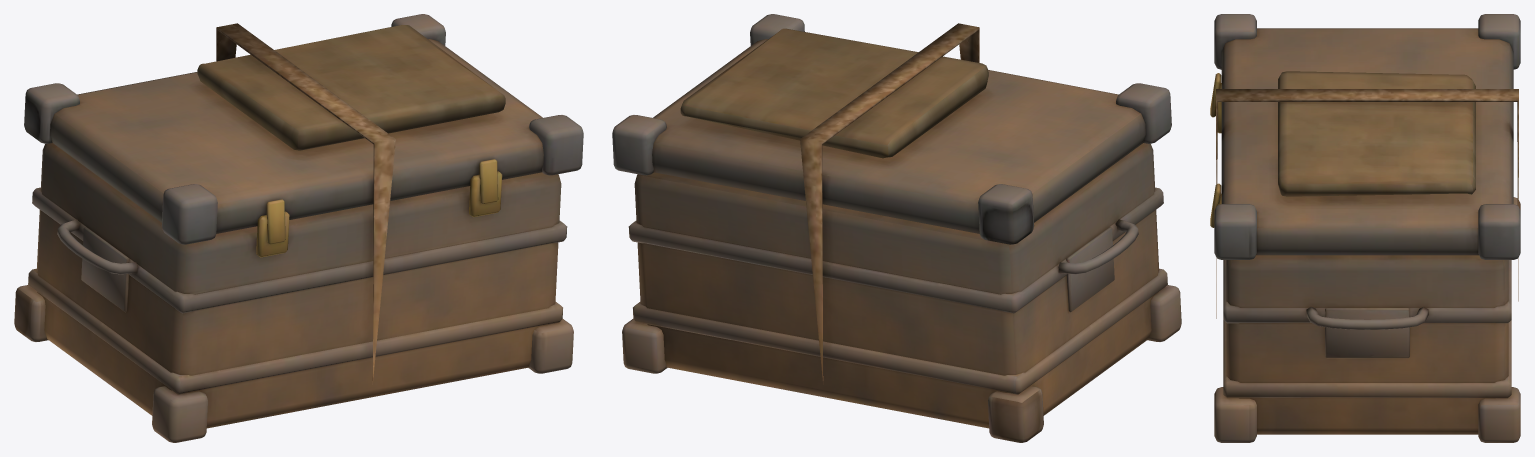
Rendered from crate.glb.
3 views of the same model, side by side, from view 1: azimuth 30°, elevation 25°; view 2: azimuth 150°, elevation 25°; view 3: azimuth 270°, elevation 25° (orthographic). The views are drawn at different scales.
Parts seen in each view (by area): view 1: crate; view 2: crate; view 3: crate.
Boxes of the visible parts, left/top/right/bottom form: crate: left=14, top=14, right=583, bottom=442; crate: left=612, top=14, right=1181, bottom=442; crate: left=1210, top=14, right=1520, bottom=442.
Bounding box in the file's own units: 1.05 × 0.6169 × 0.6586.
Materials: 1 (1 with a texture image).
